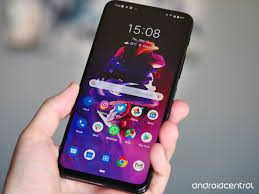asus: (55, 1, 195, 190)
